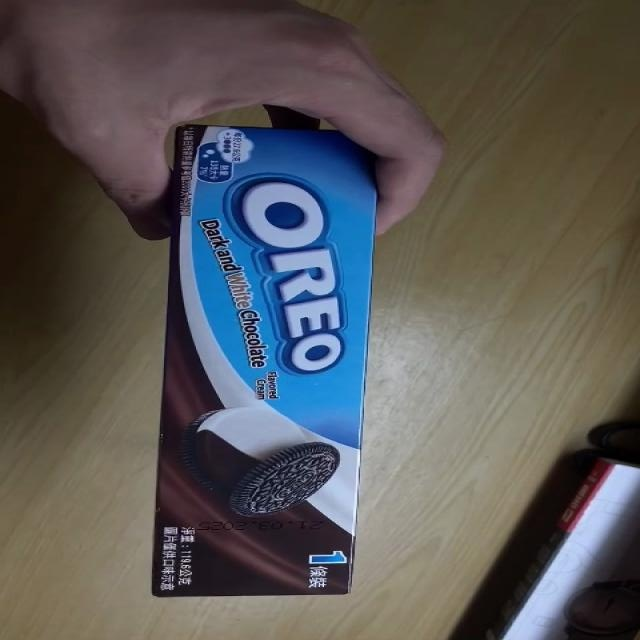Oreo: (140, 122, 387, 598)
